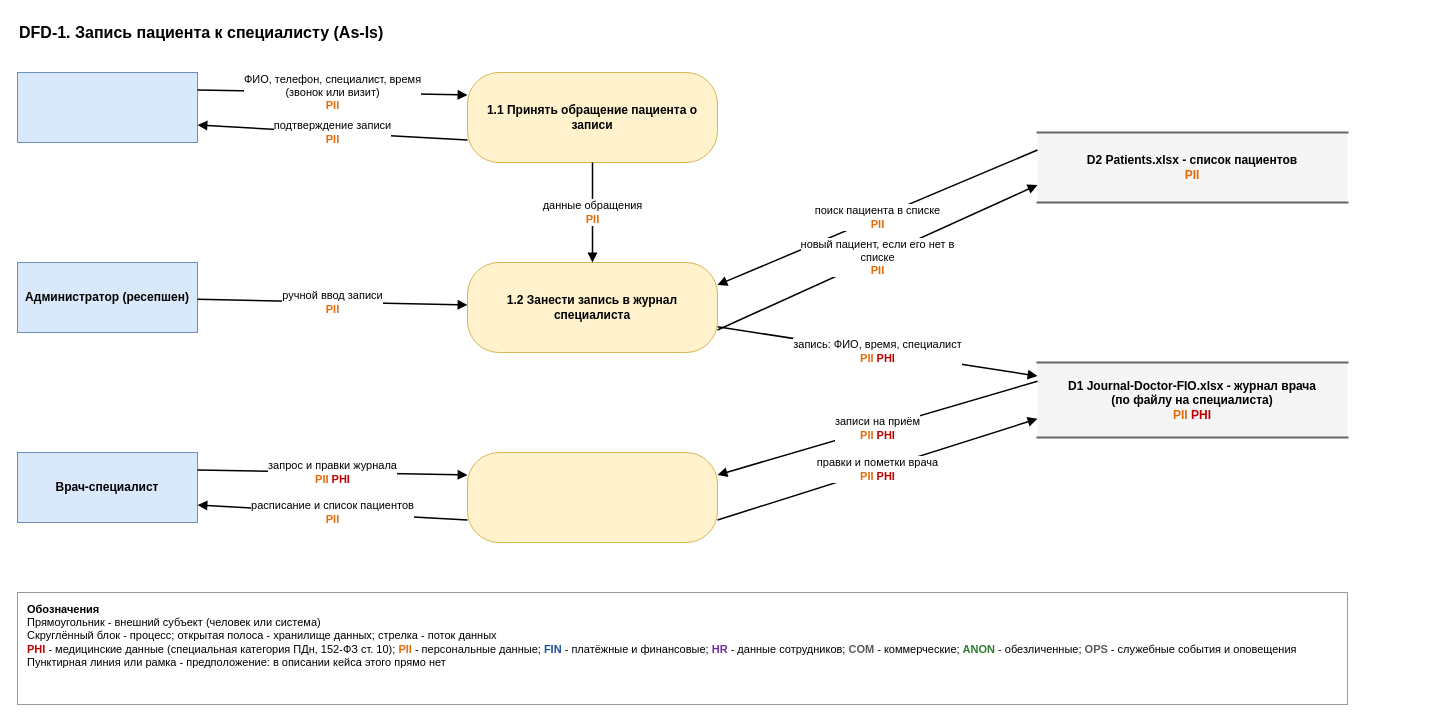
Image size: 1435x722. Some labels were removed from this diagram. Each missing label, with the box of its shape:
1.3 Просмотреть и править журнал приёма: (466, 452, 718, 542)
Пациент: (16, 72, 198, 142)
